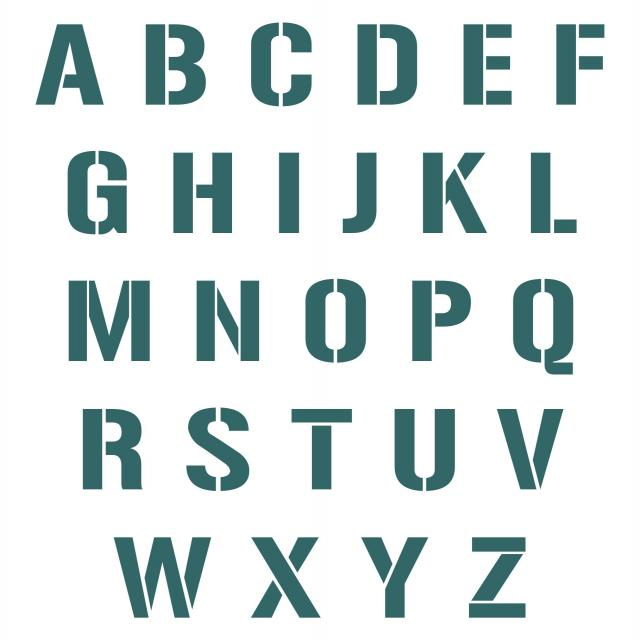S: (168, 396, 273, 512)
